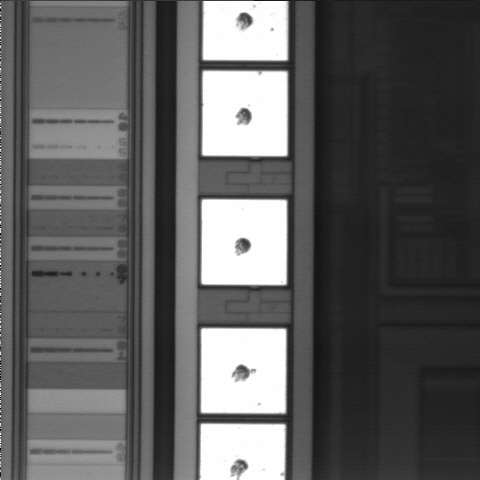pad: (202, 199, 287, 285), (202, 71, 287, 156), (201, 328, 286, 413)
